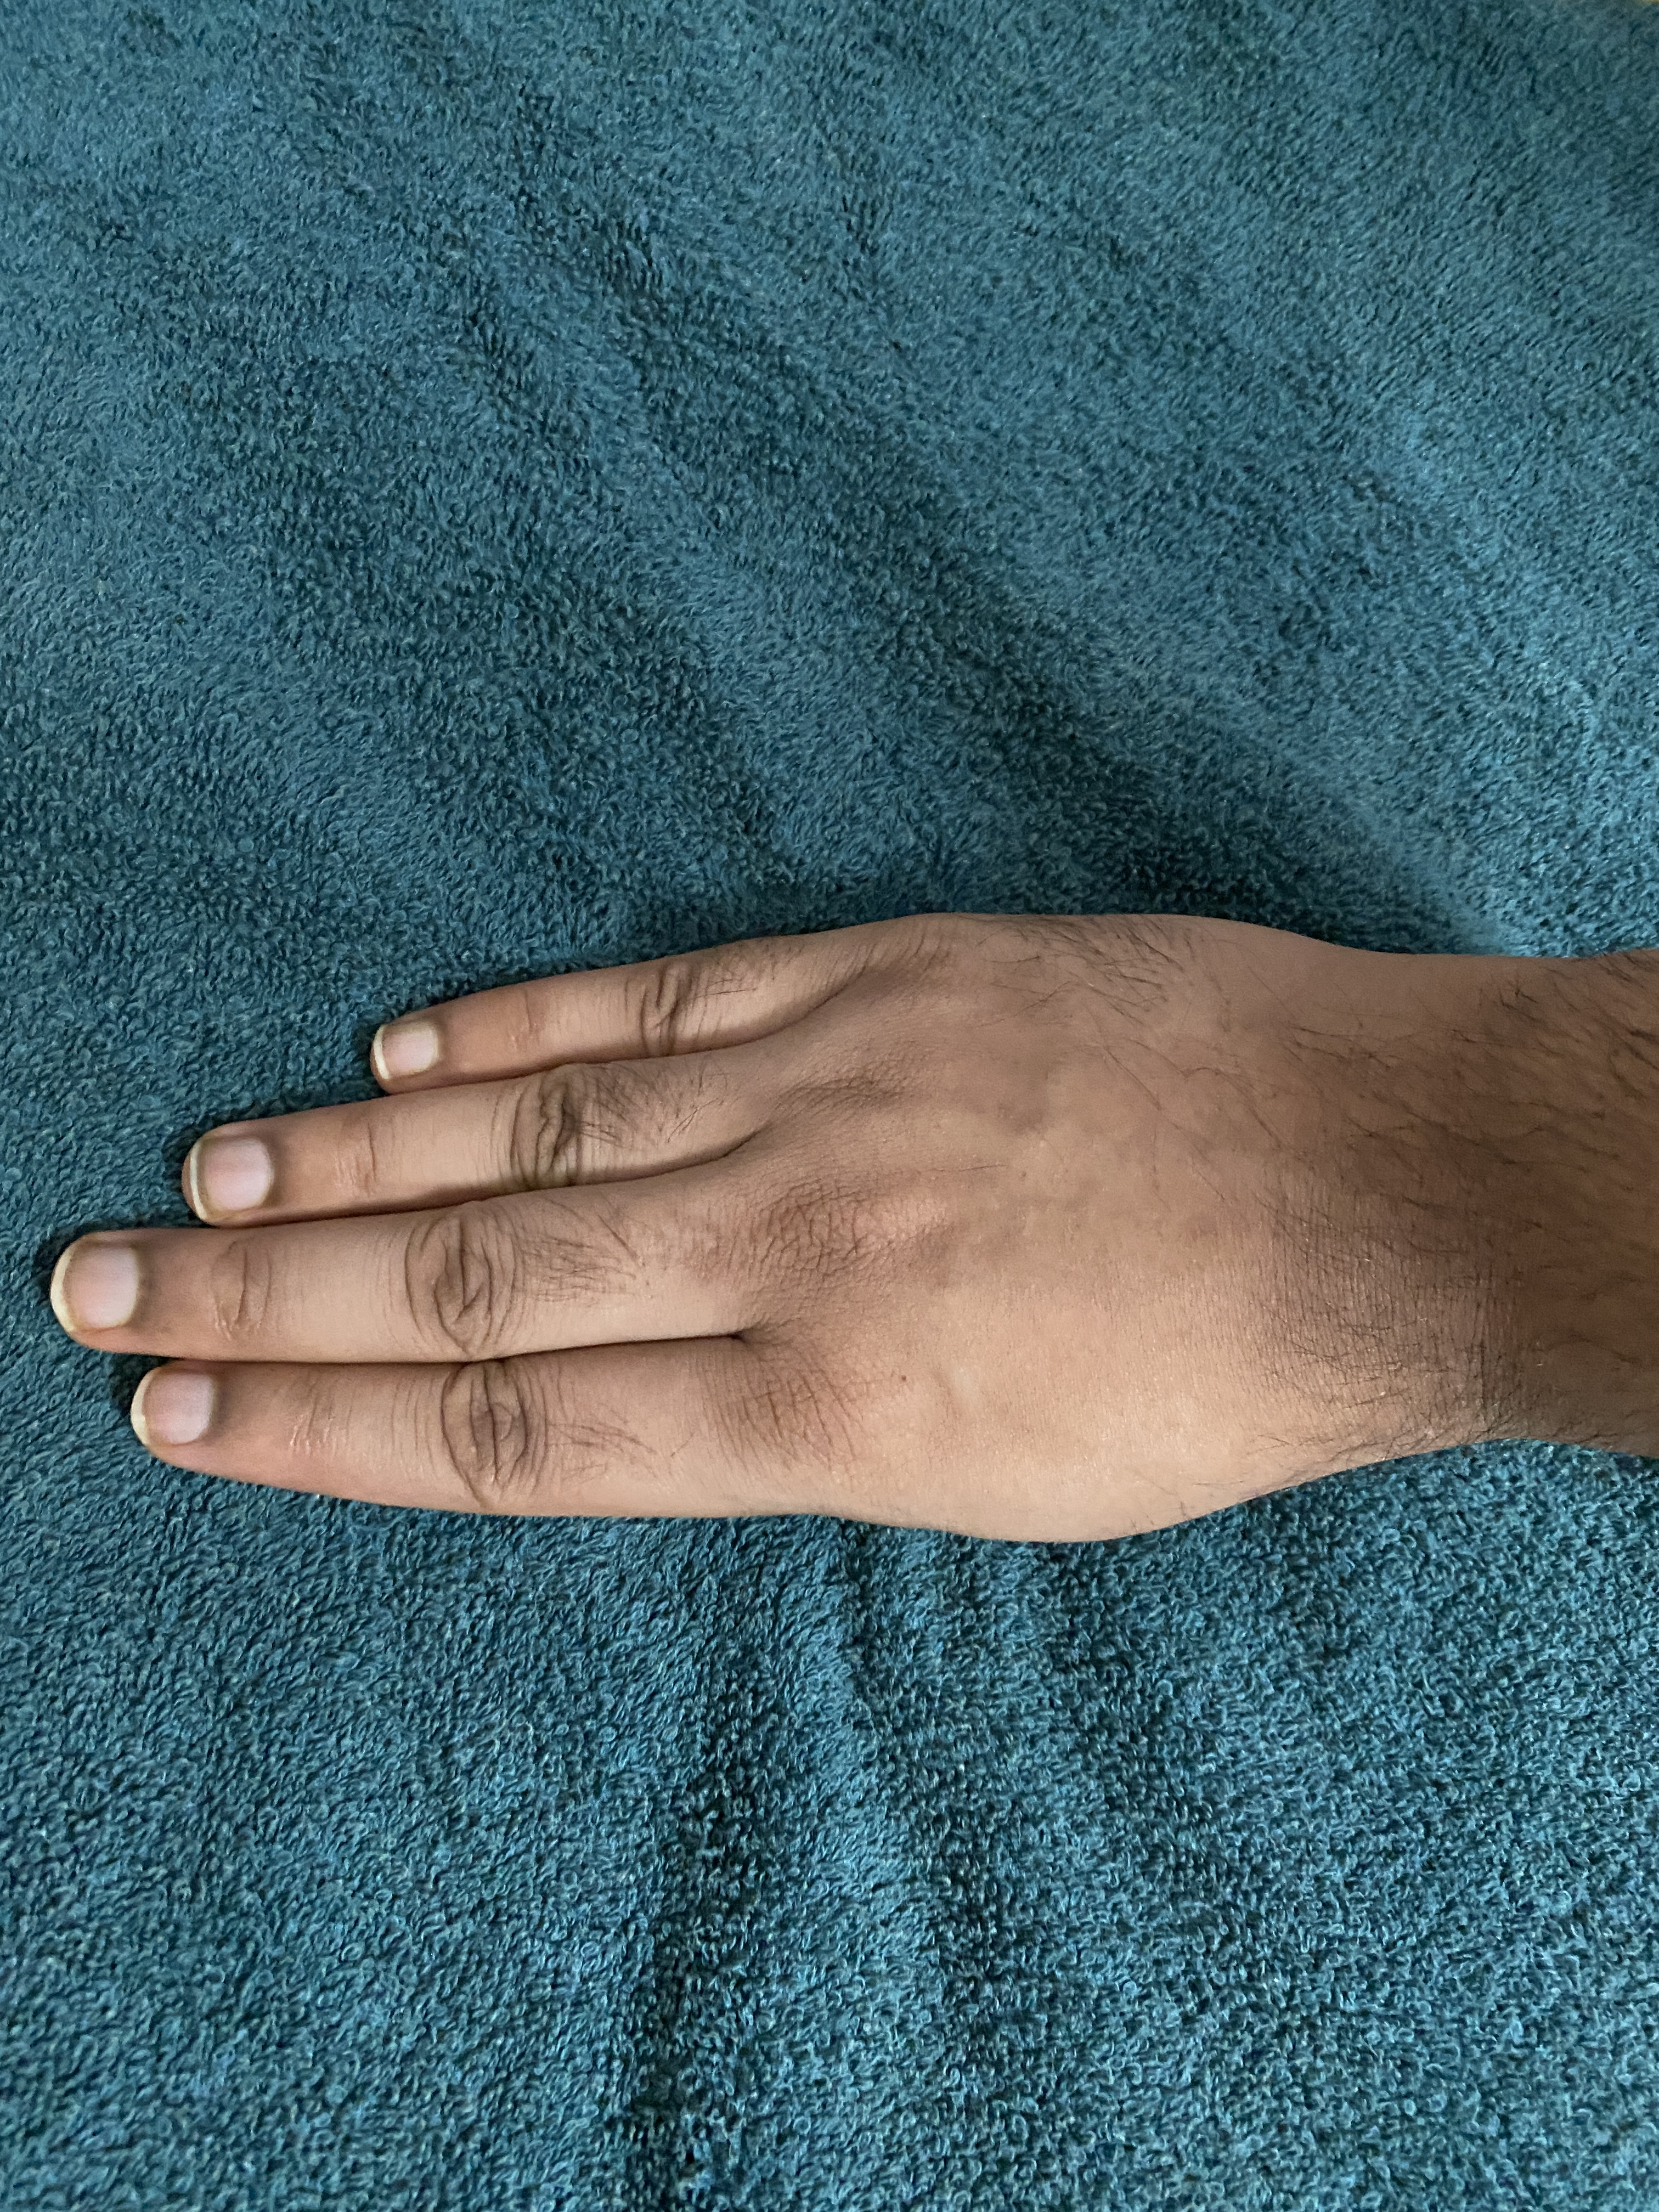right: (56, 683, 1659, 1752)
